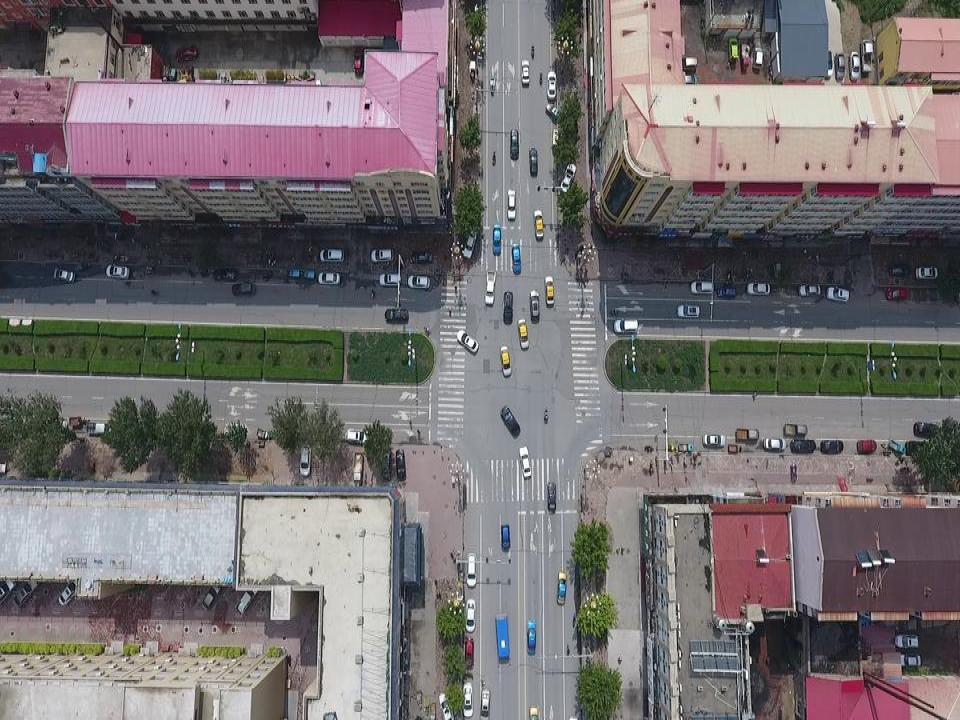car: (233, 580, 260, 617), (11, 578, 39, 610), (499, 404, 521, 440), (57, 577, 81, 608), (455, 327, 480, 356), (201, 580, 222, 613), (912, 420, 943, 439), (559, 162, 577, 194), (174, 41, 200, 63), (461, 227, 478, 260), (0, 575, 16, 608), (518, 445, 533, 480), (438, 690, 455, 720), (484, 269, 497, 308), (789, 437, 817, 455), (847, 49, 862, 82), (384, 305, 410, 324), (345, 428, 374, 445), (893, 652, 922, 669), (516, 317, 530, 352), (499, 344, 513, 379), (298, 443, 312, 477), (893, 632, 921, 649), (825, 284, 850, 303), (745, 279, 771, 297), (502, 289, 514, 327), (545, 480, 558, 515), (797, 281, 822, 299), (819, 437, 844, 455), (834, 50, 848, 82), (545, 69, 558, 103), (701, 432, 727, 449), (462, 682, 474, 718), (318, 246, 345, 262), (761, 436, 788, 452), (526, 617, 537, 656), (379, 448, 392, 481), (231, 280, 256, 297), (51, 267, 76, 284), (463, 636, 475, 671), (465, 597, 477, 632), (529, 287, 540, 325), (316, 270, 342, 286), (478, 688, 491, 720), (378, 271, 402, 288), (395, 447, 407, 481), (885, 286, 910, 302), (408, 248, 433, 264), (406, 274, 431, 290), (370, 248, 395, 264), (211, 266, 236, 282), (105, 264, 130, 280), (528, 145, 539, 180), (506, 188, 517, 223), (533, 208, 544, 243), (511, 241, 522, 276), (544, 273, 555, 308), (915, 264, 939, 280), (677, 302, 701, 318), (715, 283, 736, 301), (752, 43, 765, 72), (509, 127, 520, 161), (491, 223, 502, 257), (500, 521, 511, 555), (556, 571, 567, 605), (855, 439, 877, 456), (727, 34, 740, 62), (677, 56, 699, 72), (822, 48, 833, 79), (679, 72, 700, 87), (520, 60, 530, 87)
truck: (494, 613, 511, 660), (859, 36, 874, 76), (734, 426, 760, 442), (783, 422, 808, 437), (739, 41, 751, 72)
van: (611, 316, 639, 335), (465, 552, 479, 588), (690, 279, 714, 296)
